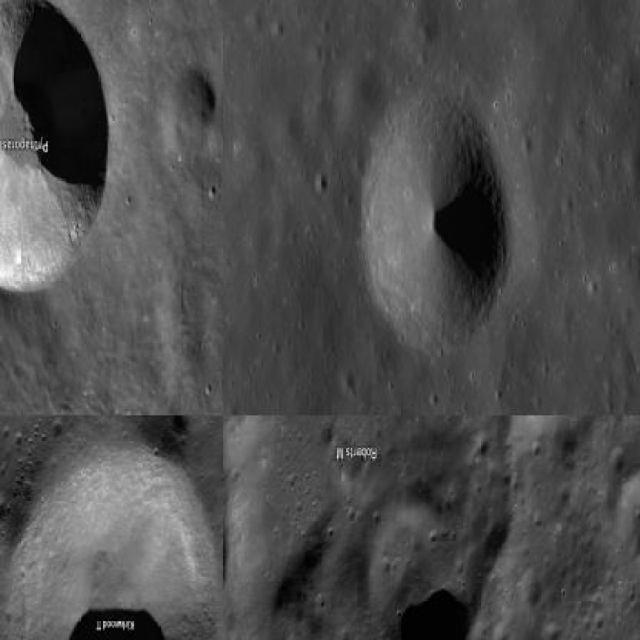crater: (223, 416, 512, 638), (3, 458, 217, 638), (364, 91, 508, 349), (0, 0, 109, 295), (168, 415, 188, 437)
